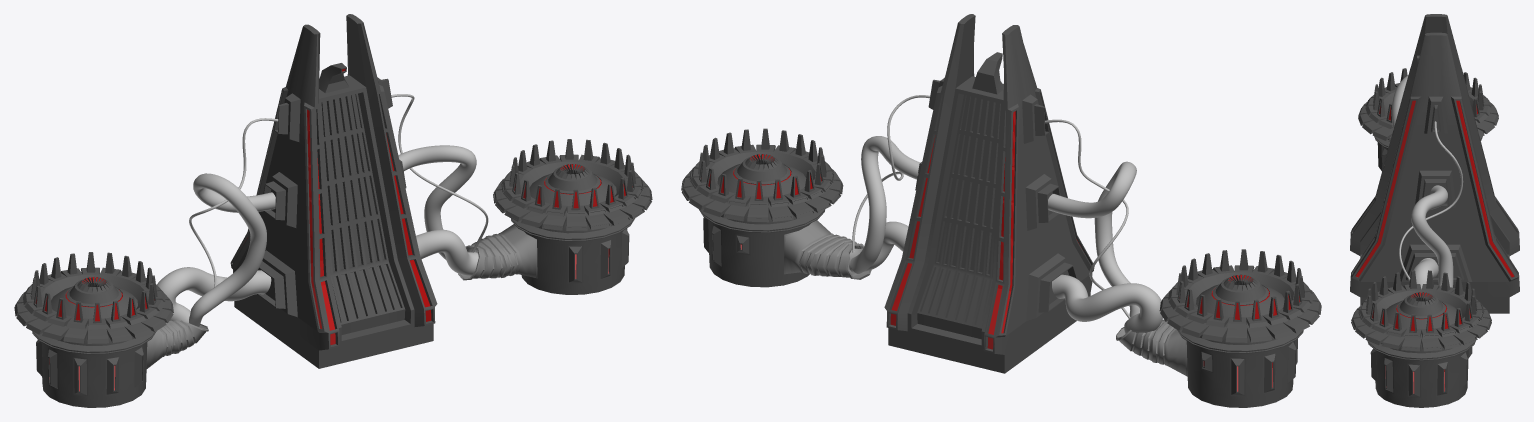
The model's file is future2_generator.fbx.
3 views of the same model, side by side, from view 1: azimuth 30°, elevation 25°; view 2: azimuth 150°, elevation 25°; view 3: azimuth 270°, elevation 25° (orthographic). The views are drawn at different scales.
Parts seen in each view (by area): view 1: polySurface482; view 2: polySurface482; view 3: polySurface482.
Part boxes in pixels (x1,y1,x2,y2): polySurface482: (14,14,652,407); polySurface482: (681,14,1321,407); polySurface482: (1350,14,1519,407).
Bounding box in the file's own units: 233 × 109 × 63.3.
